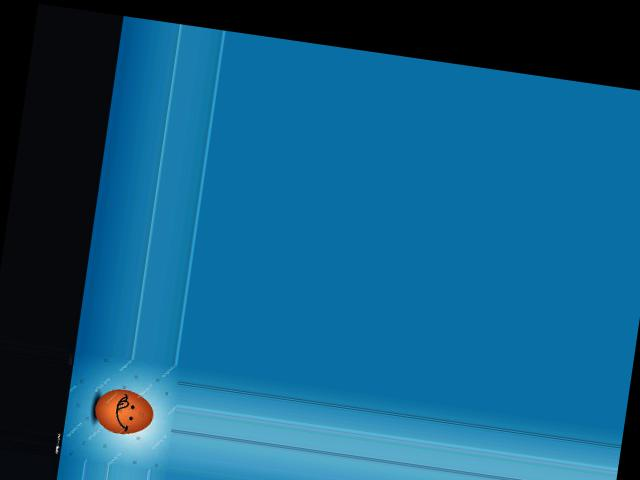egg: (92, 385, 156, 437)
